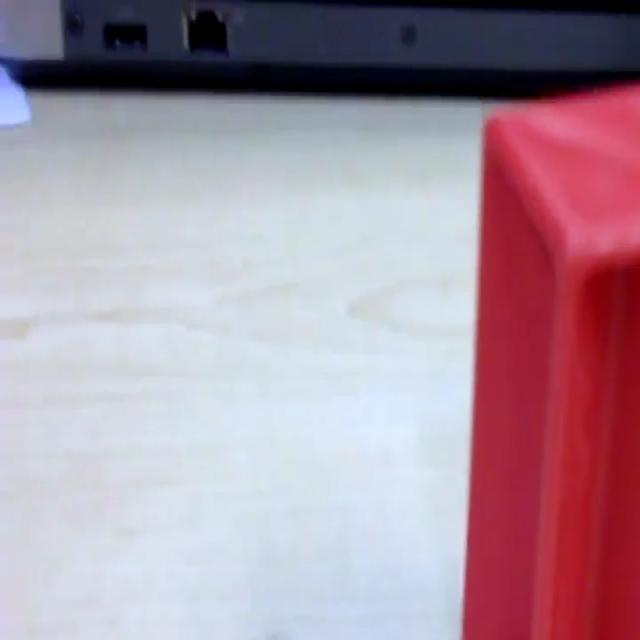red_block: (460, 80, 638, 636)
